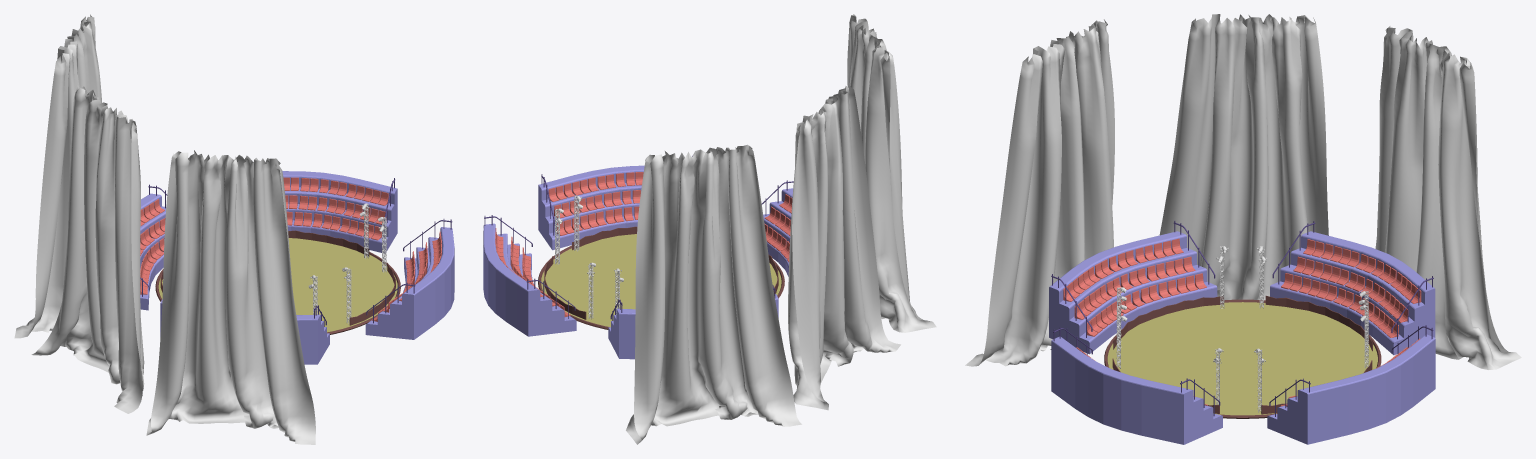
Rendered from Escenario.fbx.
3 views of the same model, side by side, from view 1: azimuth 30°, elevation 25°; view 2: azimuth 150°, elevation 25°; view 3: azimuth 270°, elevation 25° (orthographic). The views are drawn at different scales.
Visible parts, largest first — view 1: Grid, Grid.002, Grid.001, Plane, Base, Base.003, Seat_04.003, Base.001, Seat_02.003, Seat_03.003, Base.002, Plane.003 (+4 smaller); view 2: Grid.001, Grid.002, Grid, Plane, Base.003, Base, Seat_04, Base.002, Seat_02, Seat_03, Base.001, Plane.002 (+2 smaller); view 3: Grid.002, Grid, Grid.001, Plane, Base, Base.003, Base.001, Base.002, Seat_04.002, Seat_02.001, Seat_02.002, Seat_04.001 (+5 smaller).
Part boxes in pixels (x1=…): Grid: x1=146, y1=150, x2=315, y2=444; Grid.002: x1=31, y1=85, x2=144, y2=413; Grid.001: x1=14, y1=14, x2=101, y2=338; Plane: x1=158, y1=238, x2=397, y2=332; Base: x1=365, y1=227, x2=454, y2=339; Base.003: x1=282, y1=171, x2=397, y2=253; Seat_04.003: x1=283, y1=177, x2=388, y2=205; Base.001: x1=160, y1=299, x2=329, y2=364; Seat_02.003: x1=285, y1=195, x2=386, y2=224; Seat_03.003: x1=286, y1=211, x2=381, y2=240; Base.002: x1=140, y1=193, x2=166, y2=310; Plane.003: x1=288, y1=230, x2=369, y2=256; Grid.001: x1=626, y1=144, x2=801, y2=444; Grid.002: x1=788, y1=86, x2=900, y2=410; Grid: x1=847, y1=14, x2=936, y2=332; Plane: x1=541, y1=234, x2=781, y2=327; Base.003: x1=483, y1=223, x2=576, y2=336; Base: x1=538, y1=165, x2=644, y2=250; Seat_04: x1=548, y1=172, x2=643, y2=201; Base.002: x1=608, y1=294, x2=778, y2=359; Seat_02: x1=554, y1=190, x2=640, y2=218; Seat_03: x1=556, y1=206, x2=639, y2=235; Base.001: x1=763, y1=188, x2=793, y2=276; Plane.002: x1=572, y1=226, x2=637, y2=250; Grid.002: x1=1159, y1=14, x2=1328, y2=300; Grid: x1=965, y1=19, x2=1114, y2=366; Grid.001: x1=1375, y1=26, x2=1521, y2=369; Plane: x1=1107, y1=302, x2=1377, y2=415; Base: x1=1051, y1=336, x2=1222, y2=444; Base.003: x1=1267, y1=334, x2=1435, y2=444; Base.001: x1=1049, y1=231, x2=1217, y2=354; Base.002: x1=1270, y1=231, x2=1435, y2=355; Seat_04.002: x1=1303, y1=239, x2=1421, y2=303; Seat_02.001: x1=1074, y1=256, x2=1195, y2=319; Seat_02.002: x1=1293, y1=256, x2=1408, y2=322; Seat_04.001: x1=1063, y1=238, x2=1183, y2=301.
Size of the model in its own units: 6546 by 4741 by 7863.
